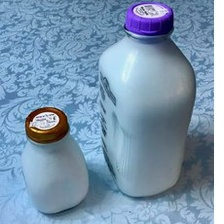bottle: (93, 0, 203, 203), (18, 103, 91, 217)
